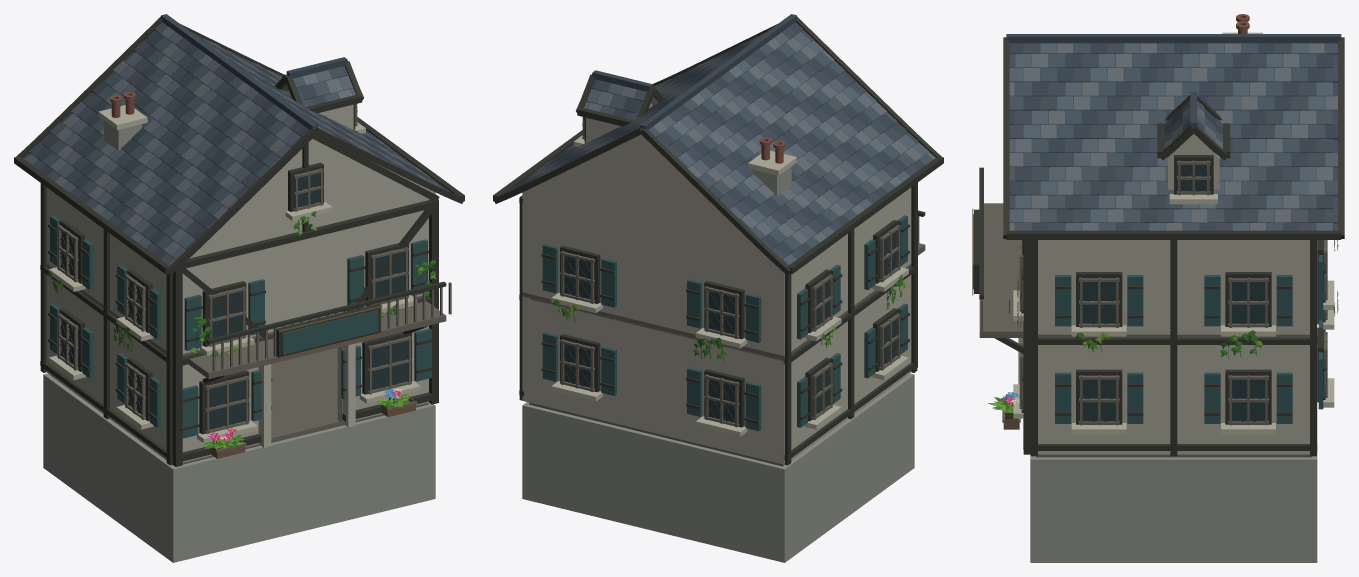
The model's file is village_lanterninn.glb.
The picture shows the model from 3 angles, left to right: view 1: azimuth 30°, elevation 25°; view 2: azimuth 150°, elevation 25°; view 3: azimuth 270°, elevation 25°; orthographic projection. The views are drawn at different scales.
Visible parts, largest first — view 1: village_lanterninn; view 2: village_lanterninn; view 3: village_lanterninn.
Boxes of the visible parts, bbox=[...] form: village_lanterninn: bbox=[14, 14, 464, 562]; village_lanterninn: bbox=[493, 14, 943, 562]; village_lanterninn: bbox=[972, 14, 1344, 562].
Bounding box in the file's own units: 9.58 × 12.64 × 9.33.
